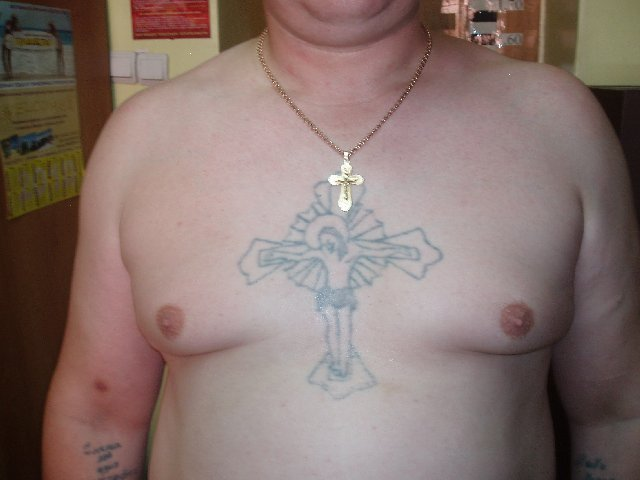tatu9_krest: (225, 168, 441, 416)
